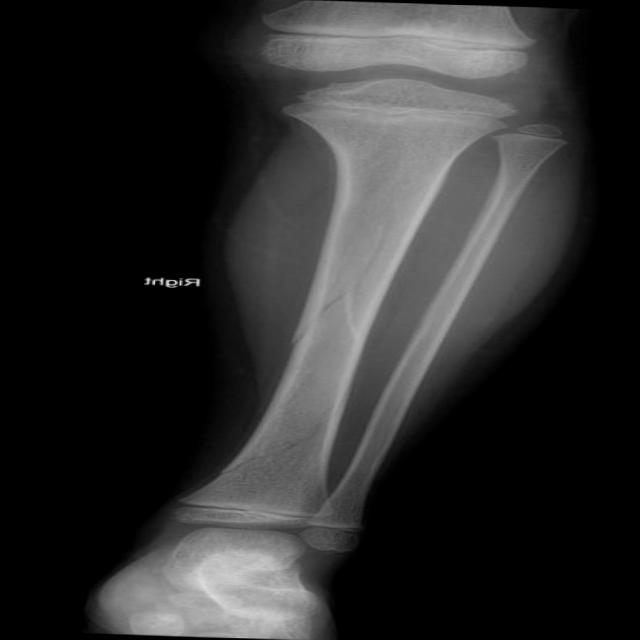Oblique Displaced: (218, 418, 325, 483), (278, 280, 365, 356)
